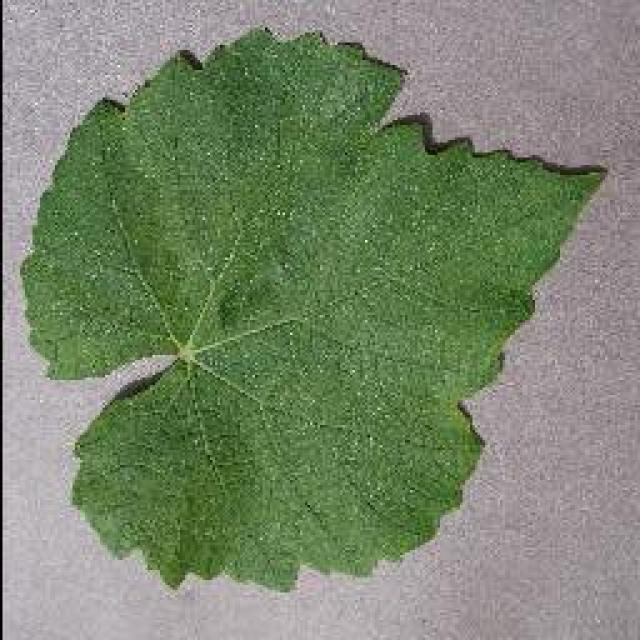Grape___healthy: (22, 30, 598, 588)
